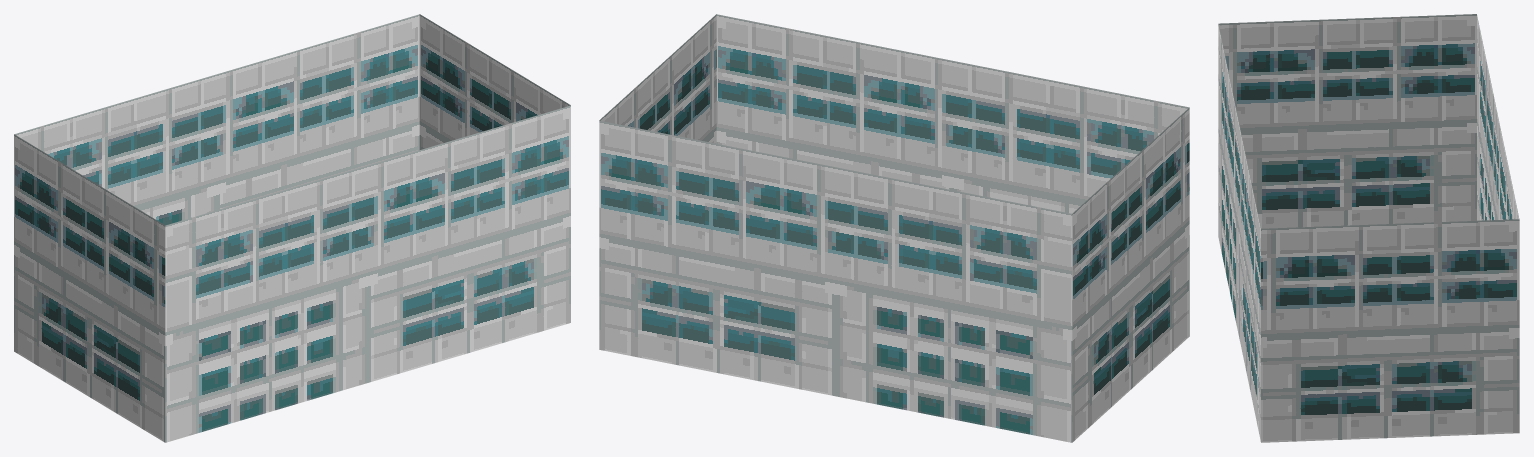
3 views of the same model, side by side, from view 1: azimuth 30°, elevation 25°; view 2: azimuth 150°, elevation 25°; view 3: azimuth 270°, elevation 25° (orthographic). The views are drawn at different scales.
Parts seen in each view (by area): view 1: obj-87; view 2: obj-87; view 3: obj-87.
Part boxes in pixels (x1,y1,x2,y2): obj-87: (14,14,570,442); obj-87: (599,14,1189,442); obj-87: (1218,14,1519,442).
Size of the model in its own units: 5.53 by 2.57 by 3.27.
Materials: 1 (1 with a texture image).
